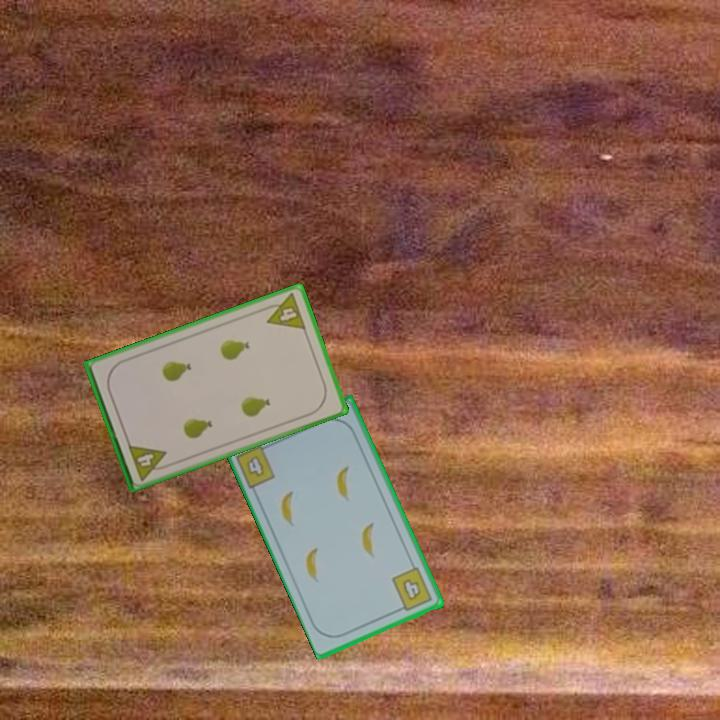4b: (389, 564, 436, 615), (232, 440, 278, 491)
4p: (259, 289, 309, 333), (124, 440, 173, 483)
